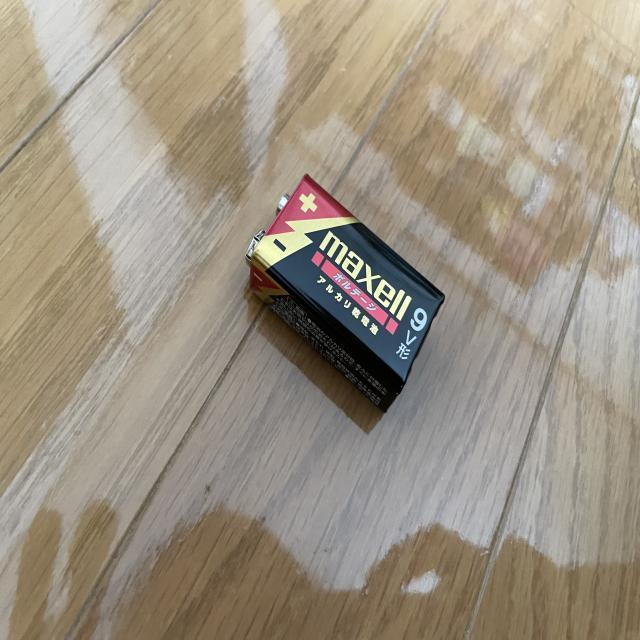9V: (246, 169, 446, 413)
